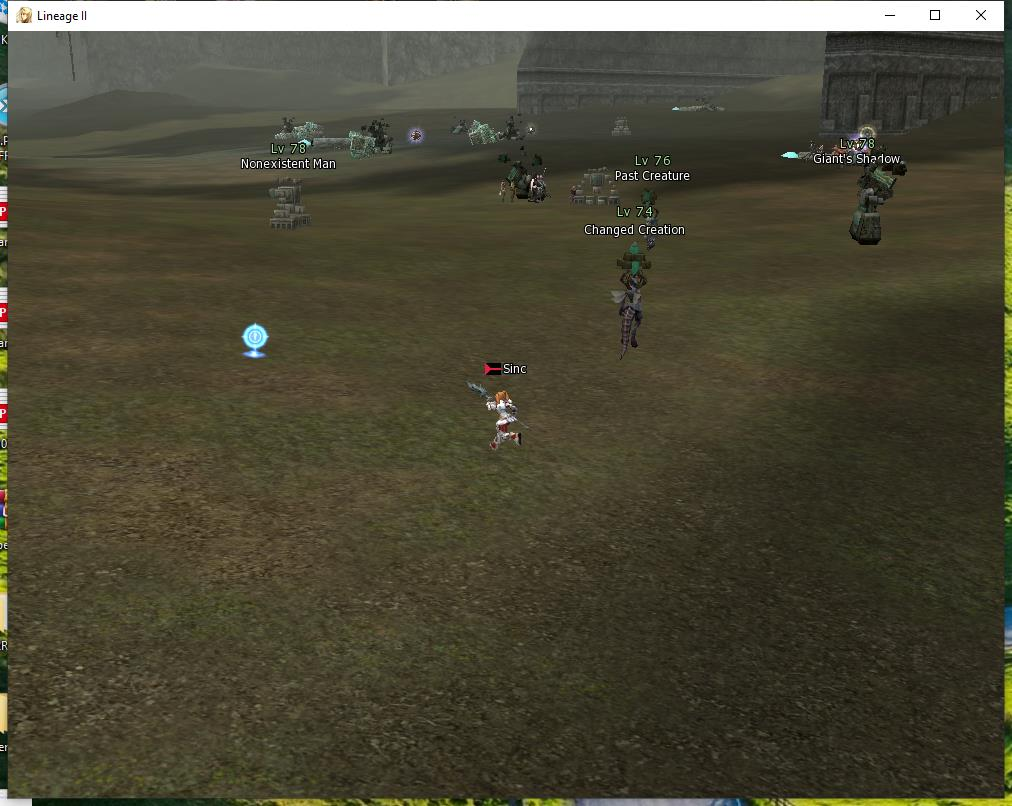monster: (584, 211, 681, 361), (811, 125, 910, 254), (237, 122, 324, 235), (622, 148, 690, 255), (470, 103, 538, 140), (577, 153, 623, 206), (352, 106, 394, 158), (511, 152, 551, 206), (403, 123, 425, 151)
